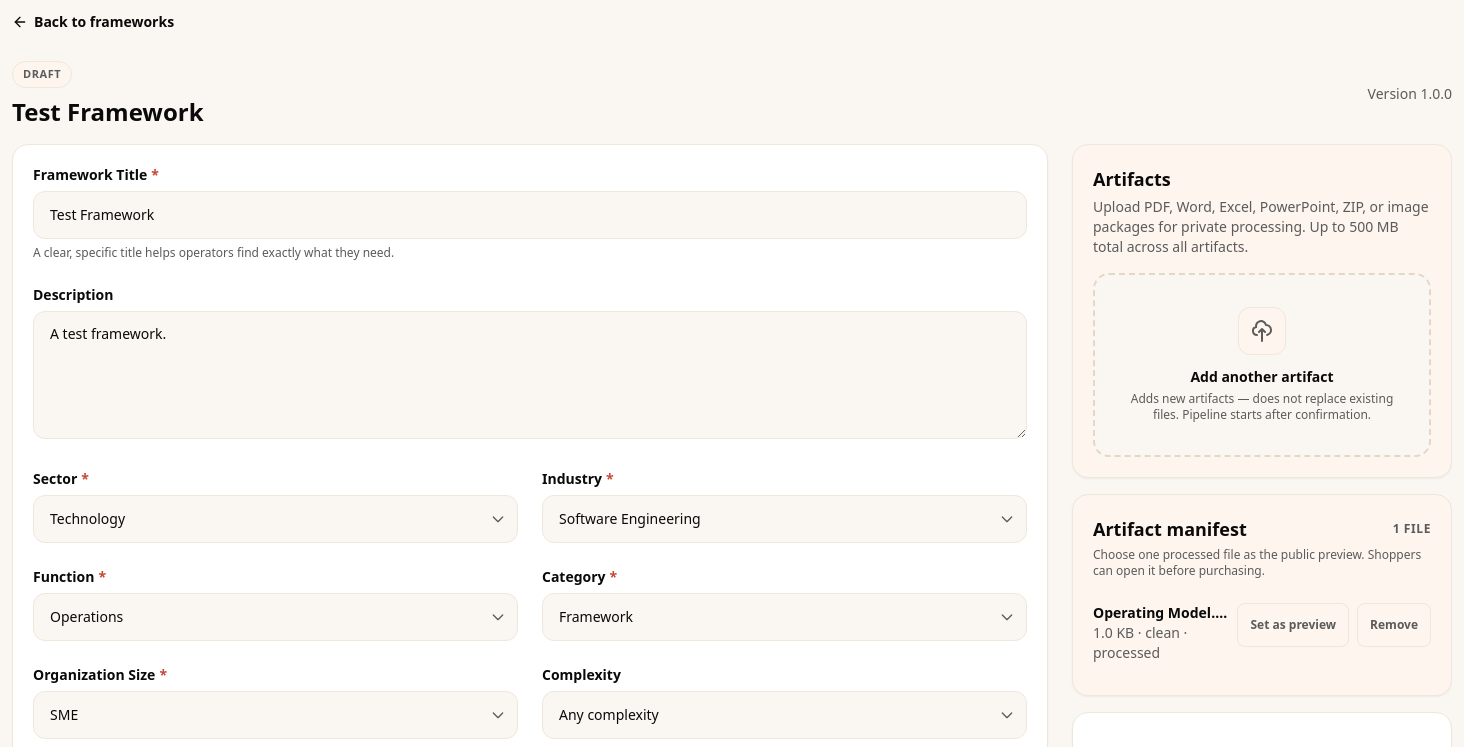
FrameworkEditor › removes a draft artifact and drops it from the manifest
Check: the text "Operating Model.pdf" is shown, box [1093,602,1230,622]
Click the button with aria-label "remove operating model.pdf" at (1394, 624), box [1357,602,1431,646]
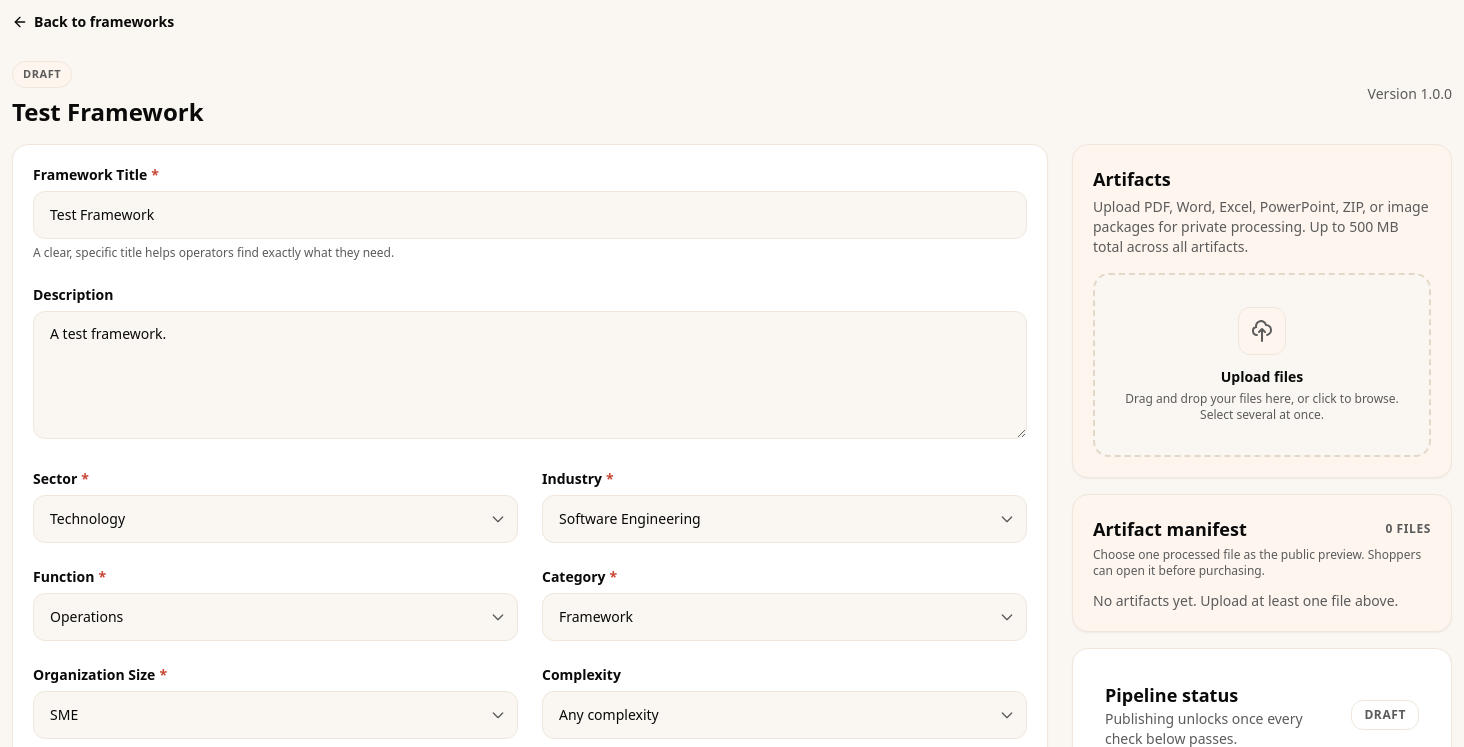
Check: the text "Operating Model.pdf" is gone
